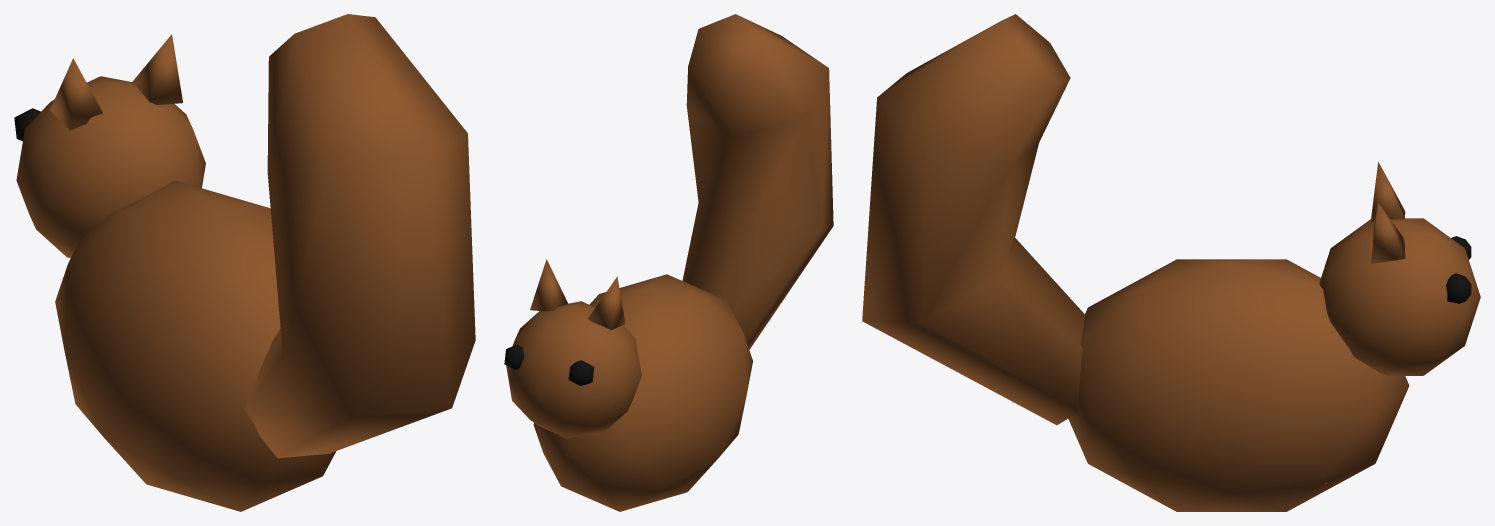
Rendered from squirrel.glb.
The picture shows the model from 3 angles, left to right: view 1: azimuth 30°, elevation 25°; view 2: azimuth 150°, elevation 25°; view 3: azimuth 270°, elevation 25°; orthographic projection. The views are drawn at different scales.
Visible parts, largest first — view 1: squirrel_v0; view 2: squirrel_v0; view 3: squirrel_v0.
Part boxes in pixels (x1,y1,x2,y2): squirrel_v0: [14, 14, 475, 511]; squirrel_v0: [504, 14, 833, 511]; squirrel_v0: [862, 14, 1480, 511].
Bounding box in the file's own units: 0.2264 × 0.5551 × 0.6333.
